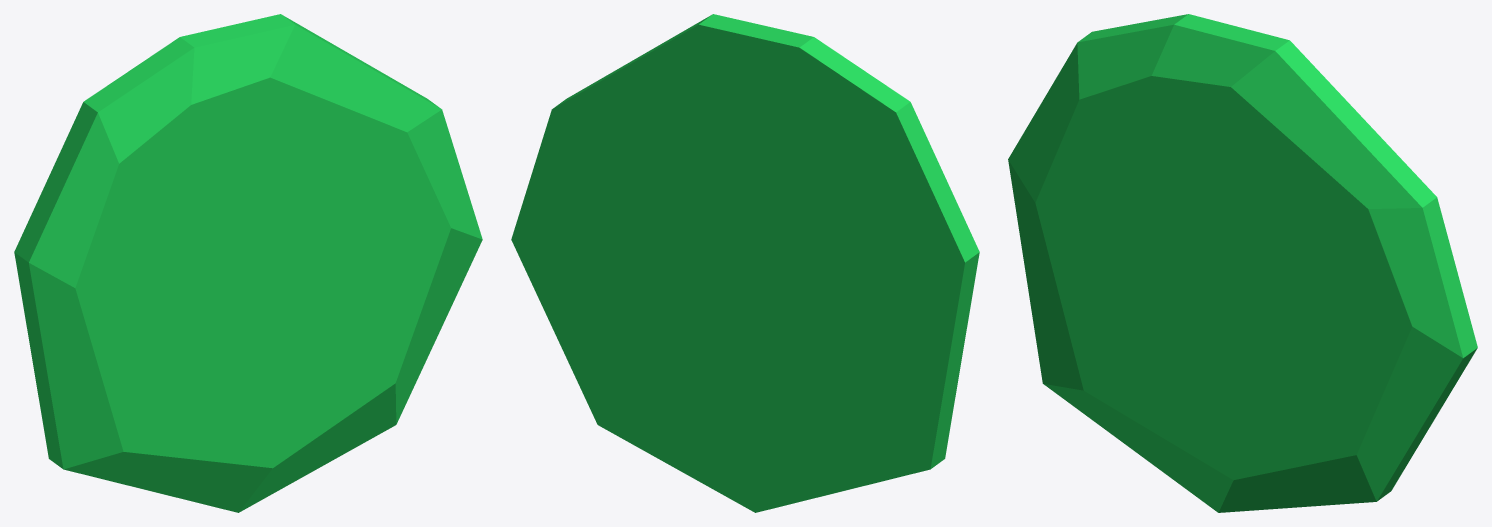
Rendered from boulder.fbx.
The picture shows the model from 3 angles, left to right: view 1: azimuth 30°, elevation 25°; view 2: azimuth 150°, elevation 25°; view 3: azimuth 330°, elevation 25°; orthographic projection.
Parts seen in each view (by area): view 1: Boulder; view 2: Boulder; view 3: Boulder.
Boxes of the visible parts, box(x1,y1,x2,y2) form: Boulder: box(14, 14, 482, 512); Boulder: box(511, 14, 979, 512); Boulder: box(1008, 14, 1477, 512).
Bounding box in the file's own units: 360 × 360 × 33.2.
